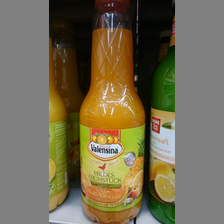juice: (77, 2, 144, 224), (147, 5, 175, 223)
